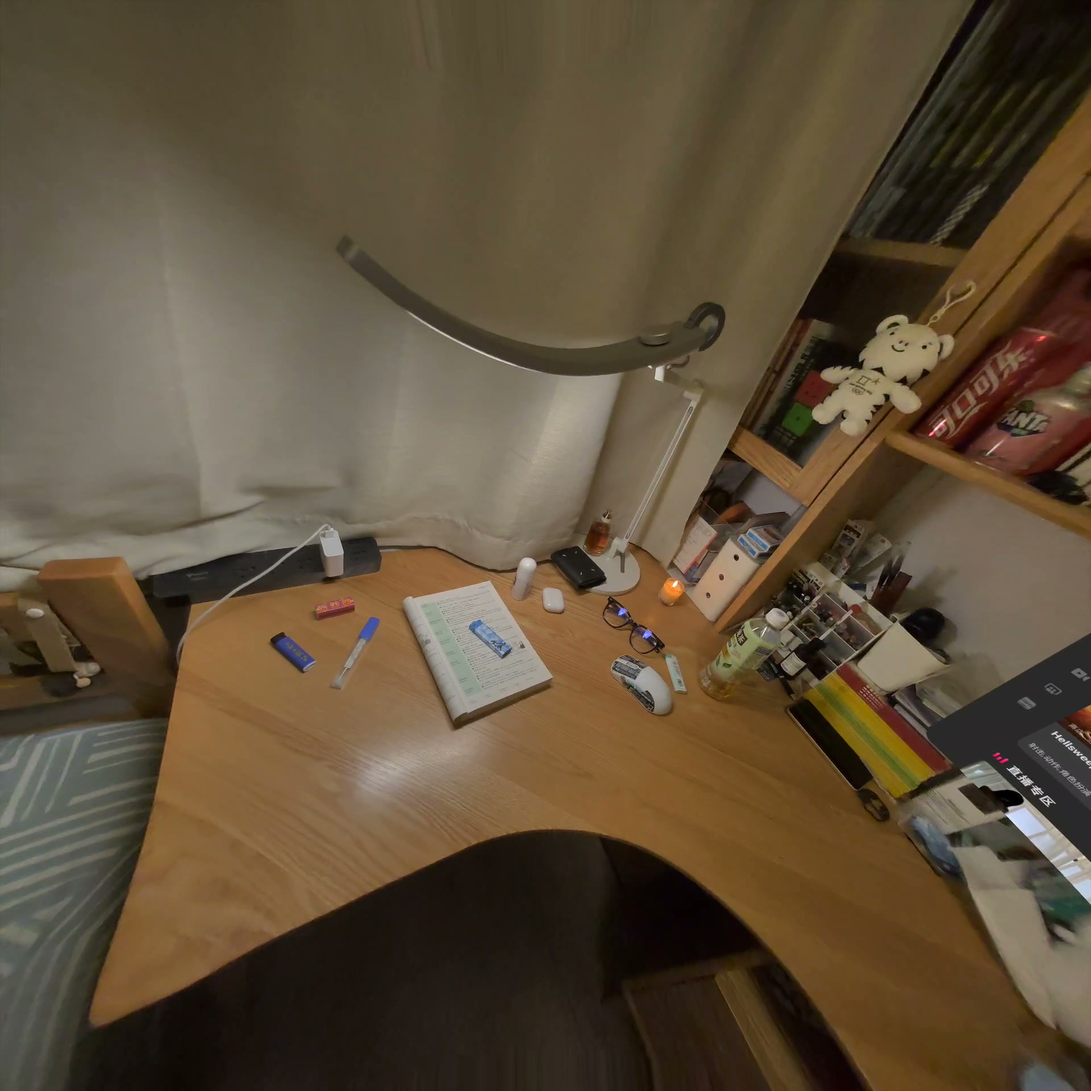lighter: (469, 619, 510, 658)
